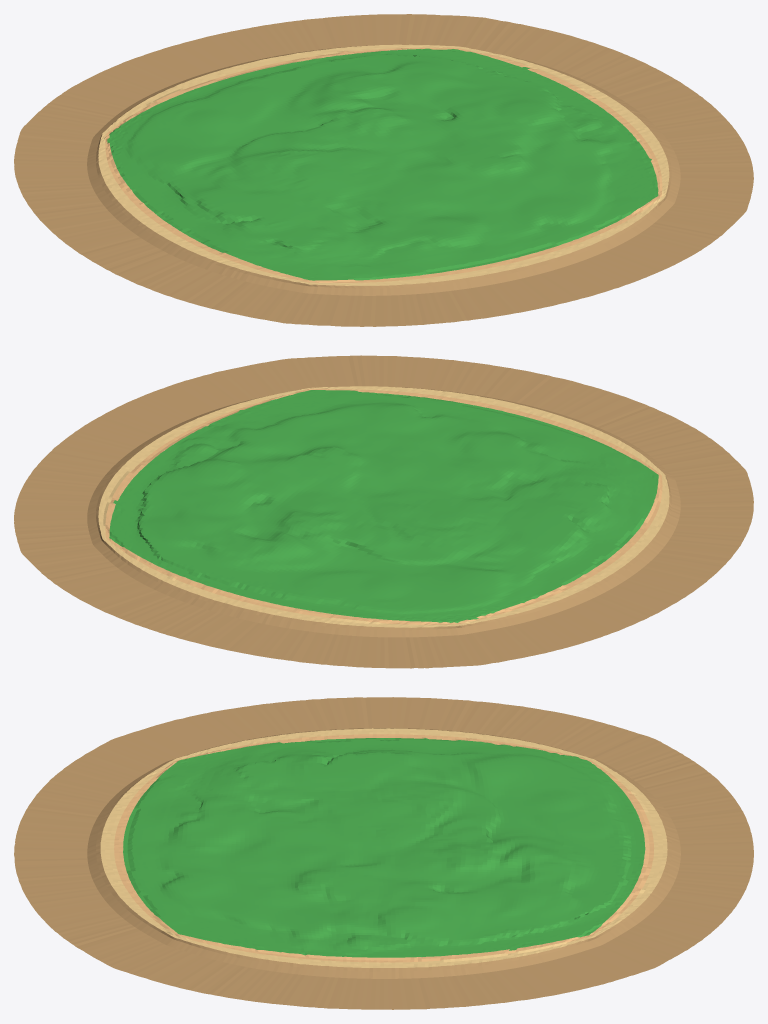
File: terrain.glb
The picture shows the model from 3 angles, top to bottom: view 1: azimuth 30°, elevation 25°; view 2: azimuth 150°, elevation 25°; view 3: azimuth 270°, elevation 25°; orthographic projection. The views are drawn at different scales.
Visible parts, largest first — view 1: island_grass, island_sea, island_sand; view 2: island_grass, island_sea, island_sand; view 3: island_grass, island_sea, island_sand.
Boxes of the visible parts, bbox=[...] form: island_grass: bbox=[107, 48, 658, 280]; island_sea: bbox=[14, 14, 753, 326]; island_sand: bbox=[98, 44, 669, 285]; island_grass: bbox=[109, 390, 658, 622]; island_sea: bbox=[14, 355, 753, 668]; island_sand: bbox=[98, 386, 669, 627]; island_grass: bbox=[123, 738, 645, 957]; island_sea: bbox=[14, 697, 753, 1009]; island_sand: bbox=[100, 728, 667, 967].
Bounding box in the file's own units: 118 × 2.65 × 118.
1 material, 1 textured.
